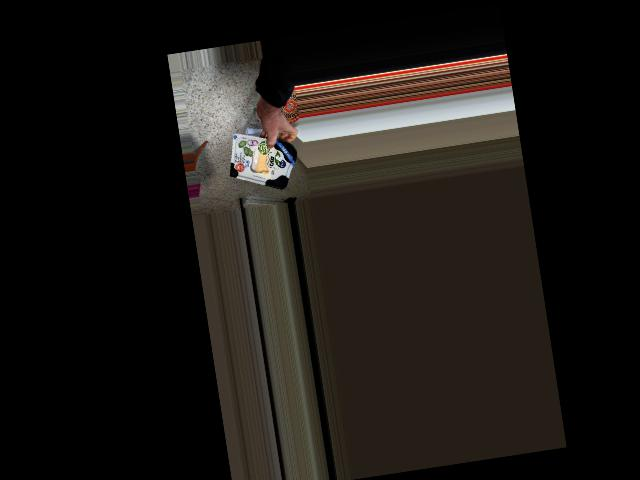cheese: (225, 134, 303, 192)
